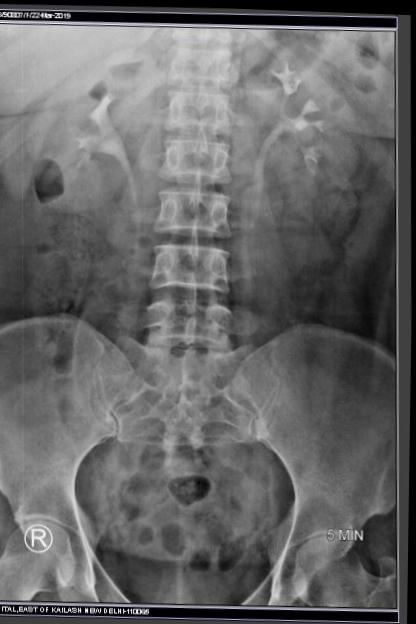left kidney: (247, 39, 382, 203)
right kidney: (14, 40, 160, 220)
vertebrae: (162, 85, 239, 135)
